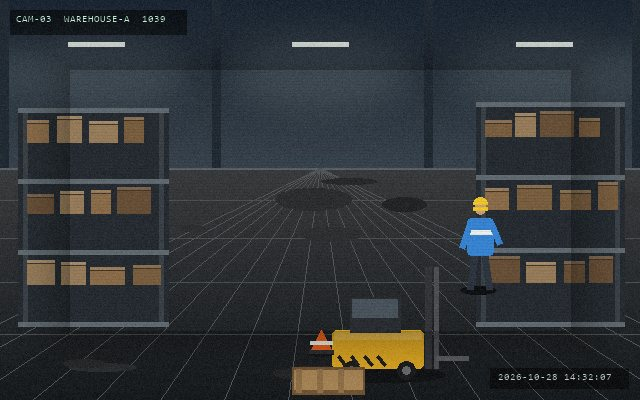cone: (308, 328, 334, 356)
forklift: (328, 265, 470, 382)
pallet: (290, 365, 366, 396), (291, 365, 367, 396)
person: (459, 195, 501, 293)
shelf: (476, 102, 624, 322), (18, 108, 168, 322)
